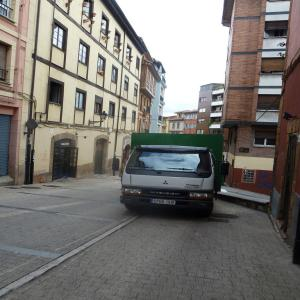Vehicle-registration-plate: (150, 198, 178, 205)
